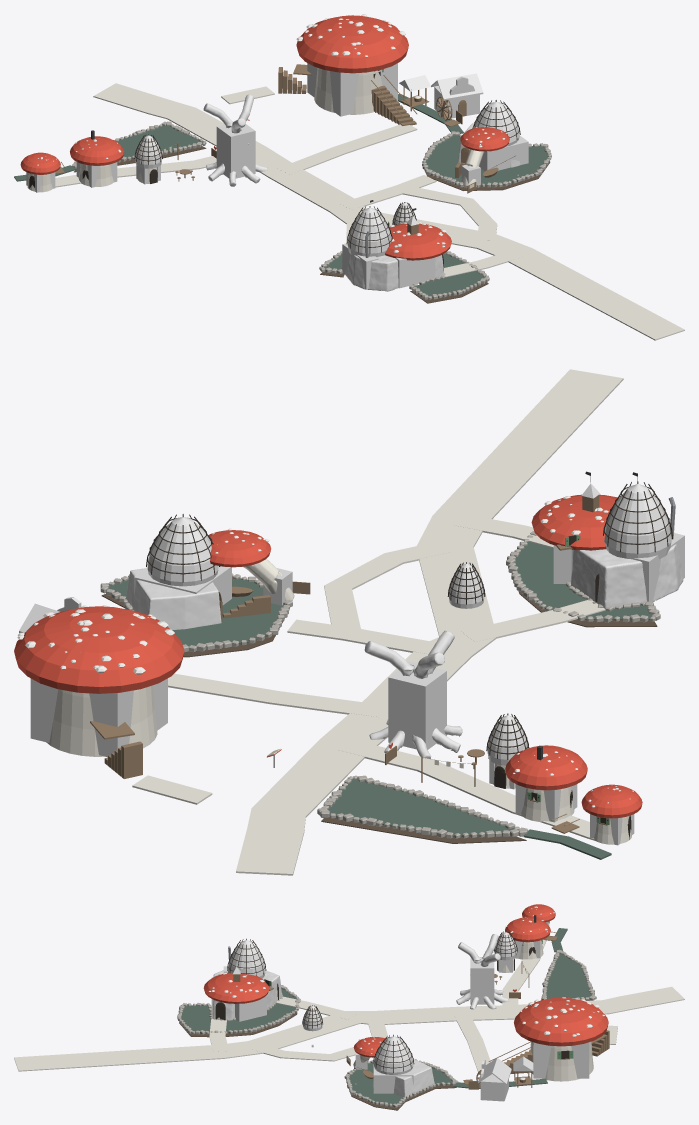
Rendered from KD_kabouterdorp.fbx.
3 renders of one model, top to bottom at view 1: azimuth 30°, elevation 25°; view 2: azimuth 150°, elevation 25°; view 3: azimuth 270°, elevation 25°, orthographic. The views are drawn at different scales.
Visible parts, largest first — view 1: static__MAT_grind_0, static__MAT_rood_0, static__MAT_water_0, static__TEX_zwam_0, static__MAT_hout_0, static__MAT_steel_0, static__MAT_breuksteen_0, static__MAT_donker_0, COLL_7, COLL_4, static__TEX_schors_0, static__TEX_stuc_V_0 (+8 smaller); view 2: static__MAT_grind_0, static__MAT_rood_0, static__MAT_water_0, static__TEX_zwam_0, static__MAT_steel_0, static__MAT_breuksteen_0, static__MAT_donker_0, COLL_4, COLL_7, static__MAT_hout_0, static__TEX_stuc_L_0, static__TEX_stuc_A_0 (+7 smaller); view 3: static__MAT_grind_0, static__MAT_rood_0, static__MAT_water_0, static__TEX_zwam_0, static__MAT_breuksteen_0, static__MAT_donker_0, static__MAT_hout_0, static__MAT_steel_0, static__TEX_stuc_A_0, COLL_7, static__TEX_schors_0, COLL_4 (+8 smaller).
Boxes of the visible parts, x1,y1,x2,y2 form: static__MAT_grind_0: (55, 83, 684, 340); static__MAT_rood_0: (20, 15, 509, 260); static__MAT_water_0: (14, 94, 548, 297); static__TEX_zwam_0: (135, 102, 519, 257); static__MAT_hout_0: (55, 64, 515, 234); static__MAT_steel_0: (27, 68, 484, 192); static__MAT_breuksteen_0: (72, 121, 551, 299); static__MAT_donker_0: (29, 69, 520, 270); COLL_7: (307, 63, 397, 116); COLL_4: (216, 124, 255, 178); static__TEX_schors_0: (203, 94, 267, 186); static__TEX_stuc_V_0: (364, 77, 520, 291); static__MAT_grind_0: (132, 369, 623, 875); static__MAT_rood_0: (14, 494, 642, 818); static__MAT_water_0: (106, 542, 657, 859); static__TEX_zwam_0: (147, 484, 671, 765); static__MAT_steel_0: (46, 559, 631, 844); static__MAT_breuksteen_0: (100, 531, 660, 838); static__MAT_donker_0: (146, 481, 672, 839); COLL_4: (388, 662, 446, 749); COLL_7: (30, 678, 167, 757); static__MAT_hout_0: (90, 495, 607, 833); static__TEX_stuc_L_0: (78, 544, 683, 628); static__TEX_stuc_A_0: (57, 532, 674, 629); static__MAT_grind_0: (14, 939, 684, 1072); static__MAT_rood_0: (203, 904, 608, 1057); static__MAT_water_0: (181, 928, 591, 1105); static__TEX_zwam_0: (228, 932, 517, 1084); static__MAT_breuksteen_0: (177, 949, 596, 1107); static__MAT_donker_0: (215, 922, 571, 1072); static__MAT_hout_0: (233, 923, 609, 1089); static__MAT_steel_0: (353, 921, 593, 1081); static__TEX_stuc_A_0: (214, 970, 508, 1100); COLL_7: (533, 1042, 589, 1078); static__TEX_schors_0: (456, 934, 508, 1009); COLL_4: (470, 958, 494, 1004).
Size of the model in its own units: 42.83 by 9.05 by 67.05.
